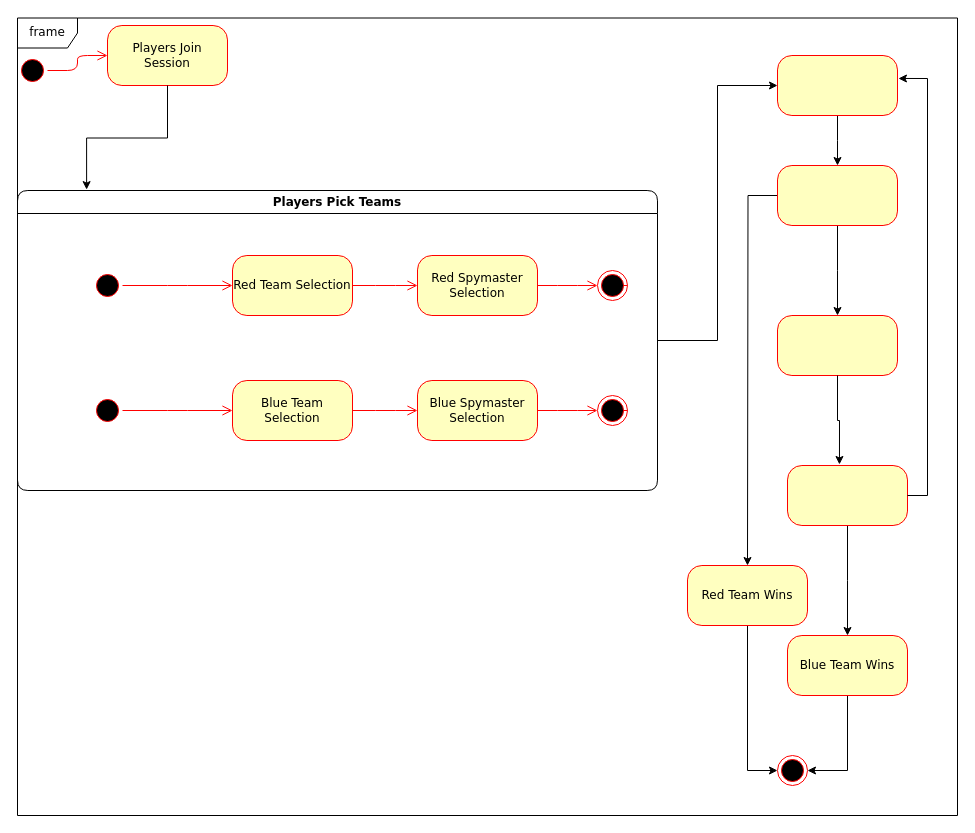
Image size: 975x833. Some labels were removed from this diagram. Each missing label, with the centre of its shape:
Blue Spymaster Gives Clue: [837,345]
Blue Team SendsGuess: [847,495]
Red Spymaster Gives Clue: [837,85]
Red Team Sends Guess: [837,195]
